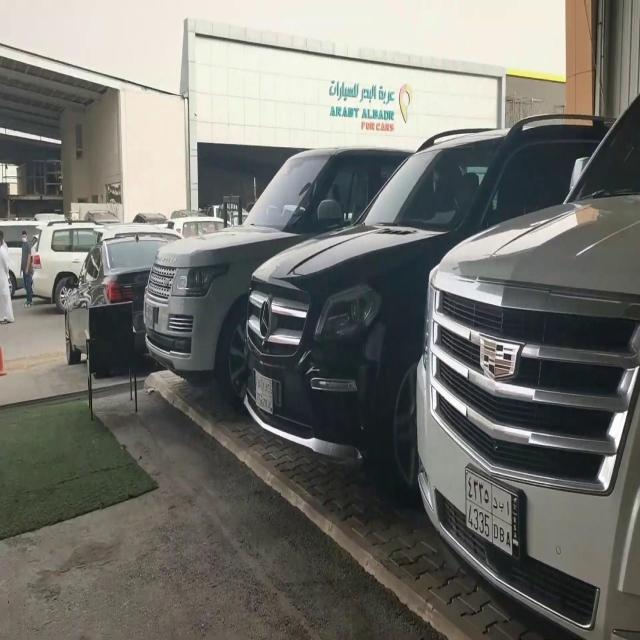license_plate: (457, 458, 522, 560), (250, 365, 276, 414), (139, 297, 160, 331)
